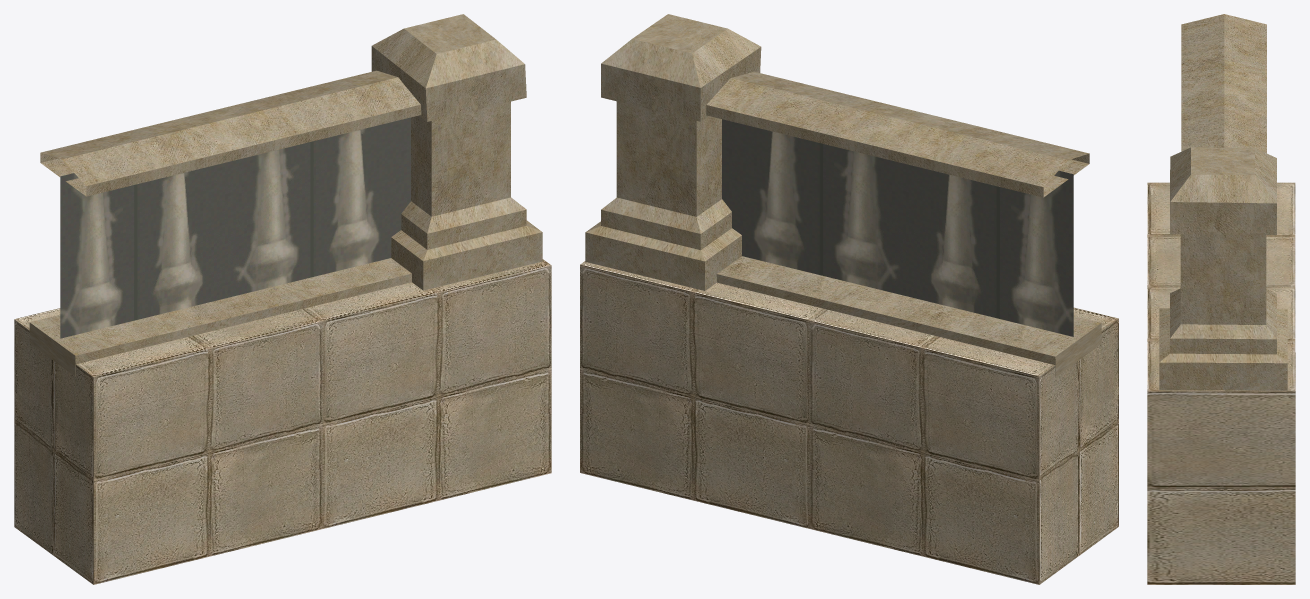
The model's file is thm_nboo_imprv_pillar_wall_small_s01_l0.fbx.
3 views of the same model, side by side, from view 1: azimuth 30°, elevation 25°; view 2: azimuth 150°, elevation 25°; view 3: azimuth 270°, elevation 25° (orthographic). The views are drawn at different scales.
Parts seen in each view (by area): view 1: mesh_node; view 2: mesh_node; view 3: mesh_node.
Boxes of the visible parts, x1=… form: mesh_node: x1=14, y1=14, x2=551, y2=584; mesh_node: x1=580, y1=14, x2=1118, y2=584; mesh_node: x1=1147, y1=14, x2=1295, y2=584.
Size of the model in its own units: 2.31 by 2.04 by 0.6912.
